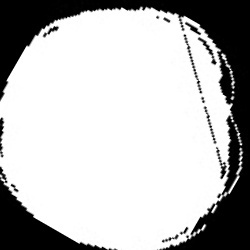spot: (1, 6, 244, 247)
